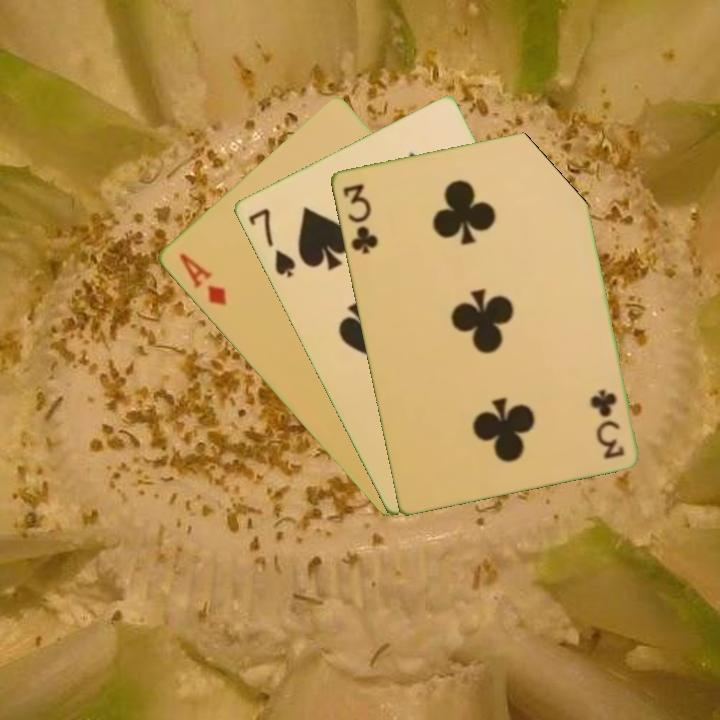3c: (338, 180, 380, 257), (588, 385, 627, 462)
7s: (244, 204, 298, 281)
Ad: (174, 249, 229, 309)
